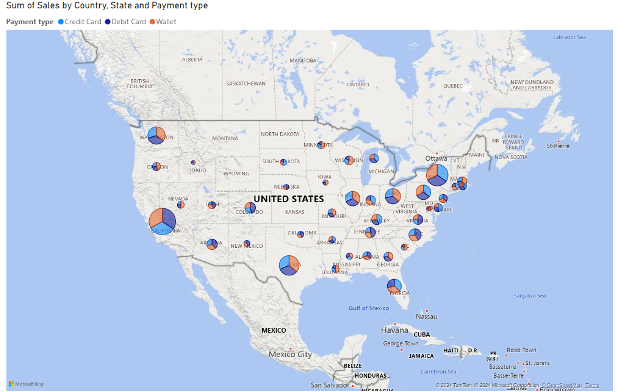

This screenshot's page, from the dashboard's own definition file:
{"tool":"powerbi","page":{"name":"Pie Chart with Geo-Location","canvas":[1280,720],"ordinal":1},"visuals":[{"type":"map","fields":{"Size":["Sum(Whole_Store_data.Sales)"],"Series":["Whole_Store_data.Payment type"],"Category":["Whole_Store_data.Country Hierarchy.Country","Whole_Store_data.Country Hierarchy.State","Whole_Store_data.Country Hierarchy.City","Whole_Store_data.Country Hierarchy.Postal Code"]},"box":[9.5,0,1115.2,719.8],"z":0}]}

Visuals, with their boxes on the page's 1280x720 design canvas (x1, y1, x2, y2). These are canvas units, not pixel positions in the 618x392 screenshot, which may show the page scaled, cropped or inside an application window:
map - Sum(Whole_Store_data.Sales) x Whole_Store_data.Payment type: (10, 0, 1125, 720)
